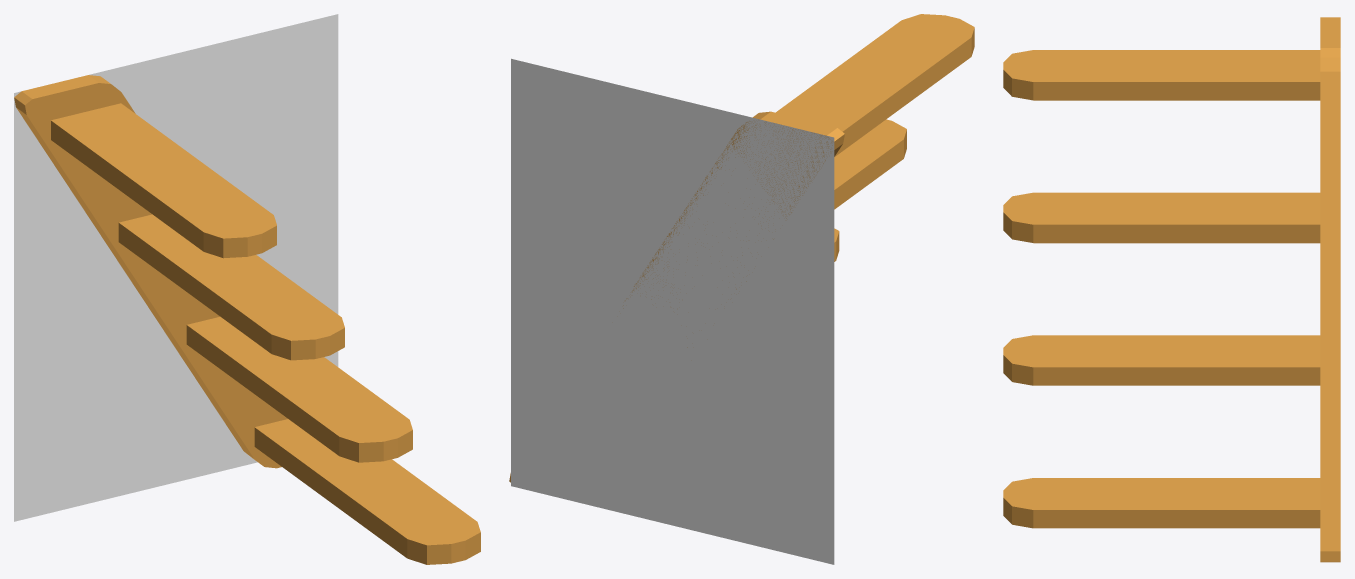
The model's file is 四层硬梯.glb.
3 views of the same model, side by side, from view 1: azimuth 30°, elevation 25°; view 2: azimuth 150°, elevation 25°; view 3: azimuth 270°, elevation 25° (orthographic). The views are drawn at different scales.
Visible parts, largest first — view 1: 四层硬梯, 立方体.005, 立方体.006; view 2: 四层硬梯, 立方体.005, 立方体.006; view 3: 立方体.005, 立方体.006.
Part boxes in pixels (x1,y1,x2,y2): 四层硬梯: [14, 14, 338, 521]; 立方体.005: [51, 103, 480, 564]; 立方体.006: [14, 75, 287, 468]; 四层硬梯: [511, 58, 834, 564]; 立方体.005: [776, 14, 974, 261]; 立方体.006: [509, 111, 844, 482]; 立方体.005: [1003, 50, 1320, 528]; 立方体.006: [1320, 17, 1340, 562].
Bounding box in the file's own units: 0.2784 × 0.35 × 0.266.
